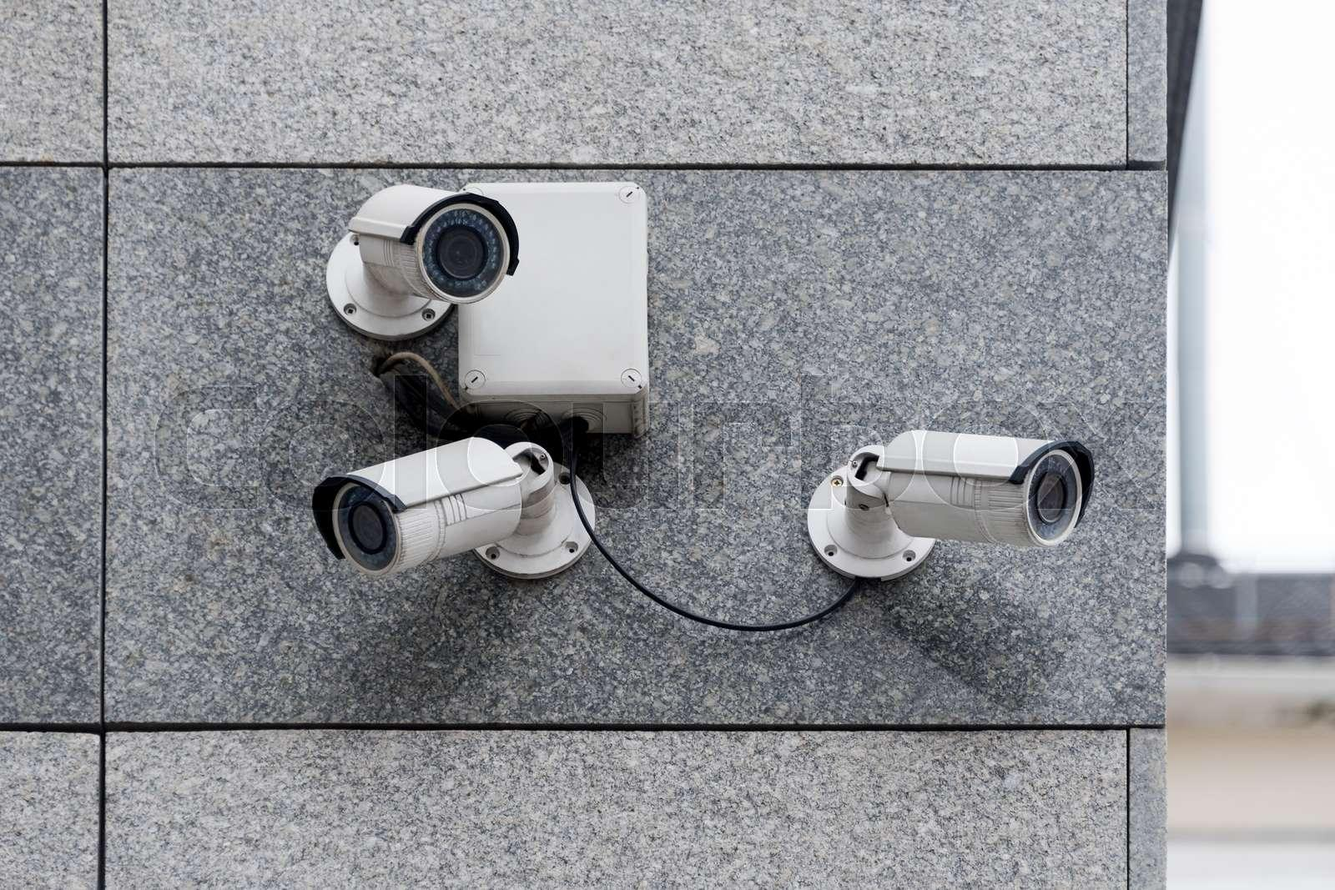CCTV: (260, 105, 547, 341)
